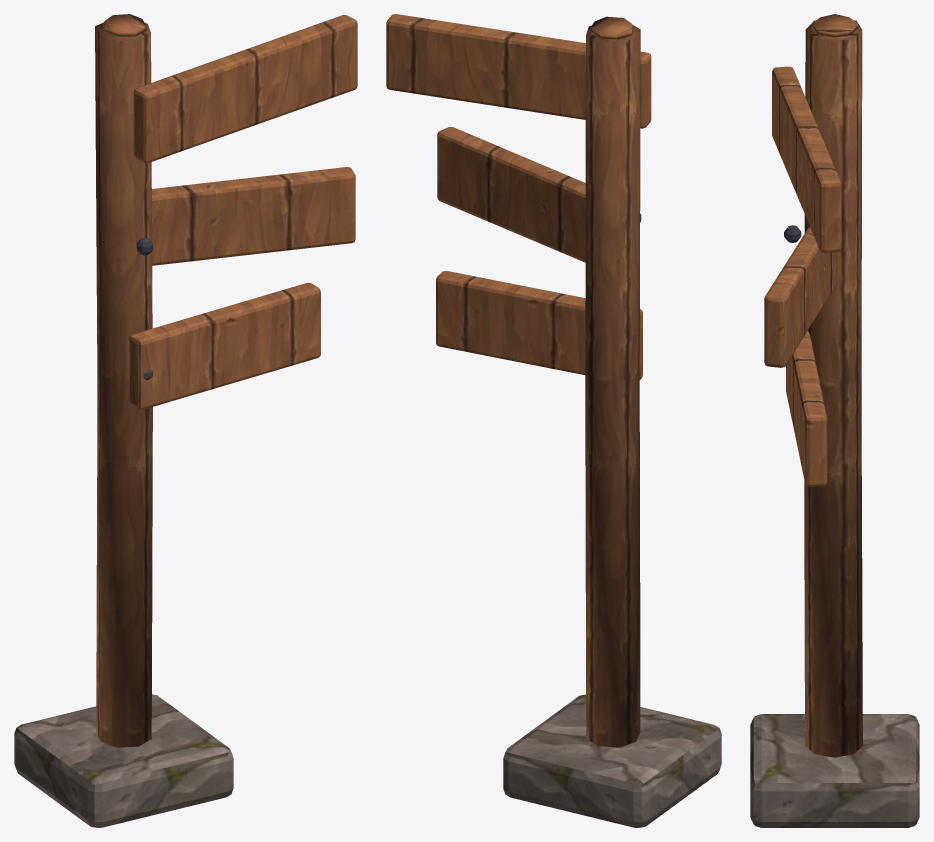
The model's file is signpost.glb.
3 renders of one model, left to right at view 1: azimuth 30°, elevation 25°; view 2: azimuth 150°, elevation 25°; view 3: azimuth 270°, elevation 25°, orthographic.
Visible parts, largest first — view 1: model; view 2: model; view 3: model.
Boxes of the visible parts, left/top/right/bottom form: model: left=14, top=14, right=357, bottom=827; model: left=386, top=14, right=721, bottom=827; model: left=750, top=14, right=919, bottom=827.
Bounding box in the file's own units: 0.6221 × 1.51 × 0.3.
4 materials, 4 textured.
